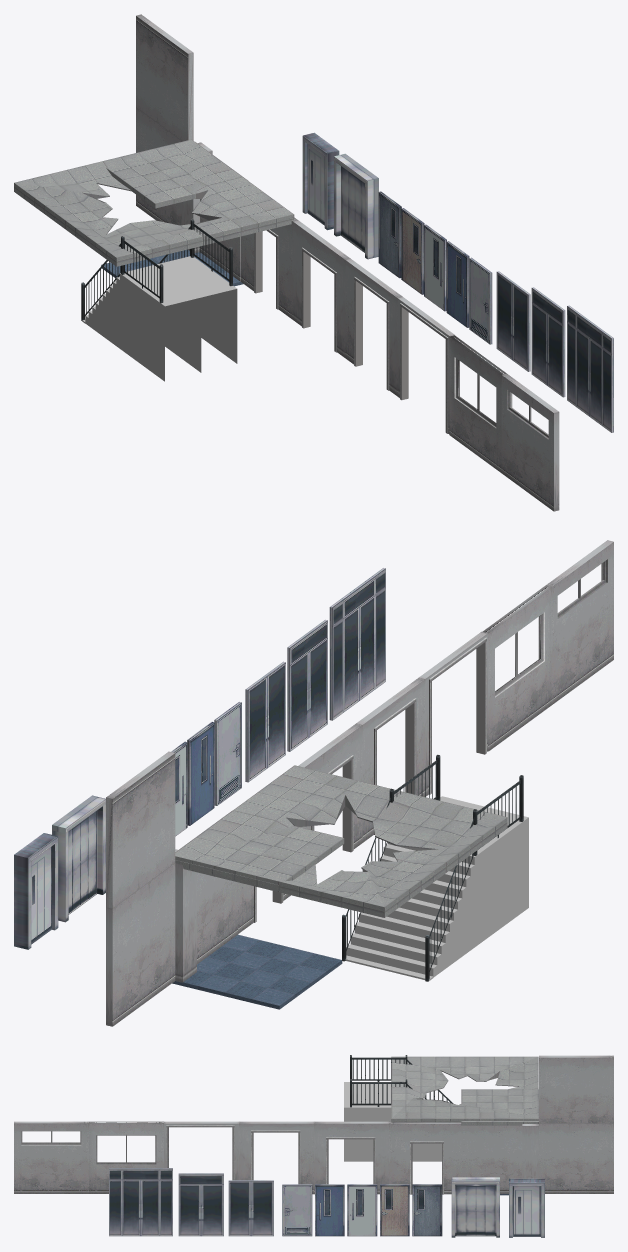
Rendered from LIBRARY  Building Objects A.fbx.
The picture shows the model from 3 angles, top to bottom: view 1: azimuth 30°, elevation 25°; view 2: azimuth 150°, elevation 25°; view 3: azimuth 270°, elevation 25°; orthographic projection. The views are drawn at different scales.
Visible parts, largest first — view 1: CEILING A Cracked Thin, Stairs B b, WALL A Reg Tall, Stairs B a, WALL A Reg Window B, DOOR Glass Large, WALL A Reg Window A, DOOR Elevator A Closed, WALL DOOR A Med, WALL DOOR A Large, CEILING A, DOOR Glass Med (+11 smaller); view 2: CEILING A Cracked Thin, WALL A Reg Tall, Stairs B b, WALL A Reg Window B, FLOOR A, DOOR Glass Large, WALL A Reg Window A, CEILING A, DOOR Elevator A Closed, Stairs B a, DOOR Elevator B Closed, DOOR Glass Med (+10 smaller); view 3: WALL A Reg Tall, CEILING A Cracked Thin, WALL A Reg Window B, DOOR Glass Large, WALL DOOR A Small, WALL A Reg, Stairs B a, DOOR Elevator A Closed, DOOR Glass Med, WALL DOOR A Med, DOOR A Double, WALL A Reg Window A (+11 smaller).
Part boxes in pixels (bbox=[...]): CEILING A Cracked Thin: bbox=[14, 139, 294, 266]; Stairs B b: bbox=[81, 236, 201, 381]; WALL A Reg Tall: bbox=[136, 14, 193, 225]; Stairs B a: bbox=[157, 218, 237, 363]; WALL A Reg Window B: bbox=[501, 373, 559, 511]; DOOR Glass Large: bbox=[567, 305, 613, 432]; WALL A Reg Window A: bbox=[449, 335, 506, 472]; DOOR Elevator A Closed: bbox=[334, 153, 378, 259]; WALL DOOR A Med: bbox=[293, 220, 350, 358]; WALL DOOR A Large: bbox=[345, 258, 402, 396]; CEILING A: bbox=[106, 142, 247, 208]; DOOR Glass Med: bbox=[531, 287, 565, 397]; CEILING A Cracked Thin: bbox=[175, 765, 507, 917]; WALL A Reg Tall: bbox=[106, 751, 175, 1026]; Stairs B b: bbox=[385, 775, 528, 981]; WALL A Reg Window B: bbox=[545, 540, 613, 705]; FLOOR A: bbox=[172, 934, 342, 1009]; DOOR Glass Large: bbox=[329, 568, 385, 720]; WALL A Reg Window A: bbox=[482, 586, 551, 751]; CEILING A: bbox=[175, 811, 344, 890]; DOOR Elevator A Closed: bbox=[52, 795, 105, 922]; Stairs B a: bbox=[342, 754, 483, 970]; DOOR Elevator B Closed: bbox=[14, 833, 58, 949]; DOOR Glass Med: bbox=[287, 619, 327, 751]; WALL A Reg Tall: bbox=[539, 1055, 613, 1193]; CEILING A Cracked Thin: bbox=[391, 1056, 538, 1122]; WALL A Reg Window B: bbox=[14, 1121, 88, 1193]; DOOR Glass Large: bbox=[109, 1168, 172, 1236]; WALL DOOR A Small: bbox=[389, 1121, 463, 1194]; WALL A Reg: bbox=[464, 1125, 522, 1193]; Stairs B a: bbox=[344, 1079, 441, 1161]; DOOR Elevator A Closed: bbox=[451, 1177, 499, 1237]; DOOR Glass Med: bbox=[178, 1173, 223, 1236]; WALL DOOR A Med: bbox=[314, 1121, 388, 1194]; DOOR A Double: bbox=[228, 1180, 273, 1236]; WALL A Reg Window A: bbox=[89, 1121, 163, 1193].
Size of the model in its own units: 1010 by 611 by 2400.
